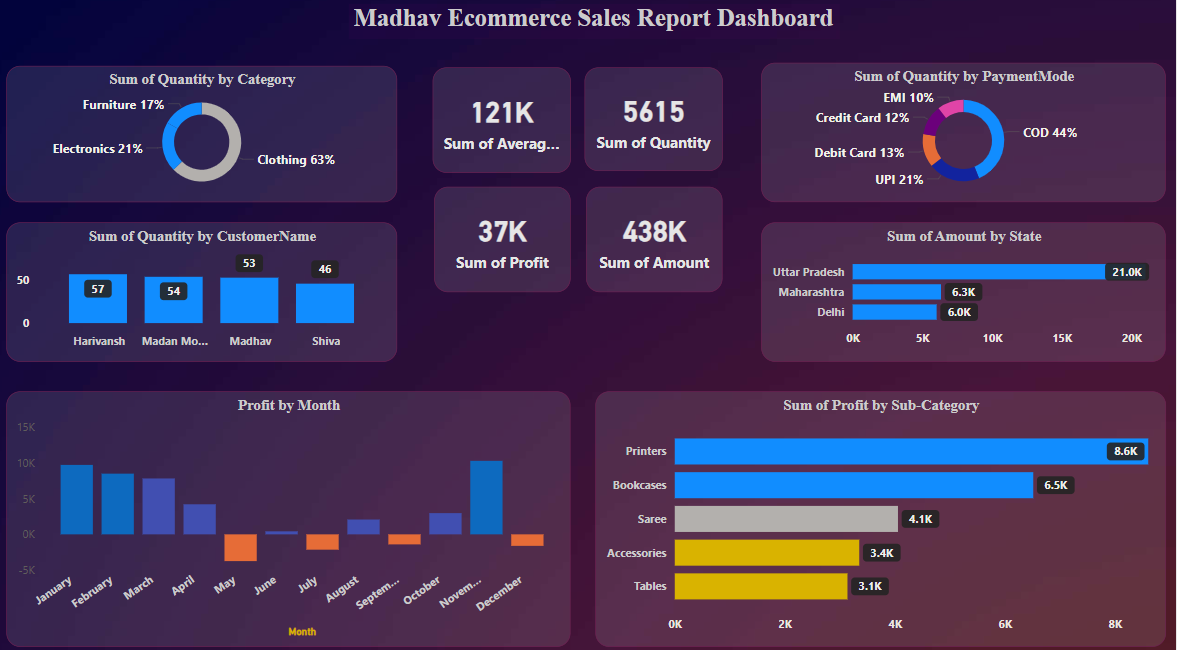

This screenshot's page, from the dashboard's own definition file:
{"tool":"powerbi","page":{"name":"Page 1","canvas":[1280,720],"ordinal":0},"visuals":[{"type":"textbox","title":"Madhav Ecommerce Sales Report Dashboard","box":[385,11.7,531.7,38.3],"z":0},{"type":"columnChart","title":"Profit by Month","fields":{"Category":["Orders.Order Date.Variation.Date Hierarchy.Month"],"Y":["Details.Profit"]},"box":[696,76,570,268],"z":1000},{"type":"barChart","fields":{"Category":["Details.Sub-Category"],"Y":["Details.Profit"]},"box":[698,360,570,288],"z":2000},{"type":"donutChart","fields":{"Category":["Details.Category"],"Y":["Details.Quantity"]},"box":[420,281.7,261.7,195],"z":3000},{"type":"donutChart","fields":{"Y":["Details.Quantity"],"Category":["Details.PaymentMode"]},"box":[420,78.3,260,190],"z":4000},{"type":"card","fields":{"Values":["Details.Amount"]},"box":[19,76.2,147.6,114.3],"z":5000},{"type":"card","fields":{"Values":["Details.Quantity"]},"box":[190,78.3,148.3,113.3],"z":6000},{"type":"card","fields":{"Values":["Details.Profit"]},"box":[18.3,210,148.3,113.3],"z":7000},{"type":"card","fields":{"Values":["Details.Average Order Value"]},"box":[190,211.7,148.3,113.3],"z":8000},{"type":"barChart","fields":{"Y":["Details.Amount"],"Category":["Orders.State"]},"box":[18.3,345,303.3,178.3],"z":9000},{"type":"columnChart","fields":{"Category":["Orders.CustomerName"],"Y":["Details.Quantity"]},"box":[340,503.3,341.7,195],"z":10000}]}

Visuals, with their boxes in screenshot pixels (x1, y1, x2, y2), scaled from the page's 1280x720 canvas onto the 1177x650 screenshot:
"Madhav Ecommerce Sales Report Dashboard" textbox: l=354, t=11, r=843, b=45
"Profit by Month" columnChart: l=640, t=69, r=1164, b=311
barChart - Details.Sub-Category x Details.Profit: l=642, t=325, r=1166, b=585
donutChart - Details.Category x Details.Quantity: l=386, t=254, r=627, b=430
donutChart - Details.Quantity x Details.PaymentMode: l=386, t=71, r=625, b=242
card - Details.Amount: l=17, t=69, r=153, b=172
card - Details.Quantity: l=175, t=71, r=311, b=173
card - Details.Profit: l=17, t=190, r=153, b=292
card - Details.Average Order Value: l=175, t=191, r=311, b=293
barChart - Details.Amount x Orders.State: l=17, t=311, r=296, b=472
columnChart - Orders.CustomerName x Details.Quantity: l=313, t=454, r=627, b=630
